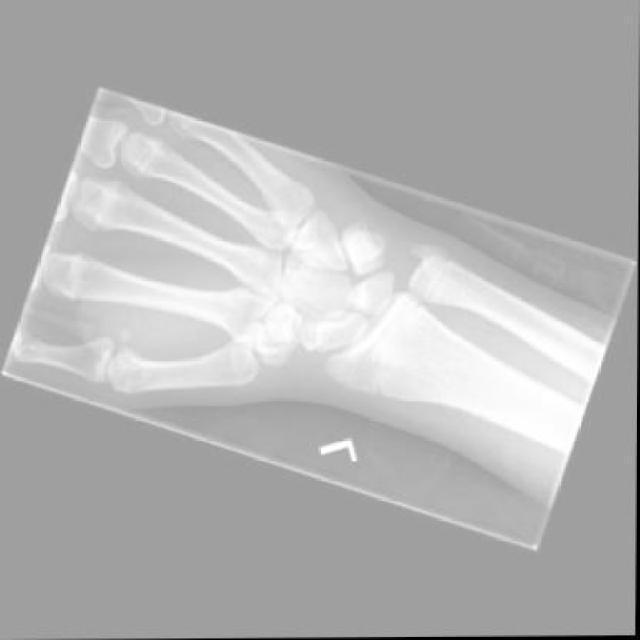Fracture: (292, 309, 333, 356)
